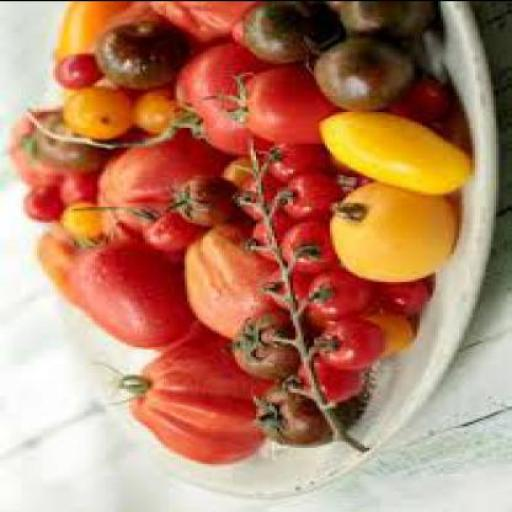biodegradable: (101, 318, 258, 462), (87, 128, 227, 241), (64, 231, 192, 344), (164, 40, 290, 150), (312, 108, 470, 192), (325, 180, 454, 279), (177, 215, 280, 336), (206, 58, 322, 144), (304, 34, 414, 109), (8, 109, 100, 188), (226, 1, 340, 64), (139, 2, 303, 44), (250, 382, 354, 443), (53, 1, 130, 69), (96, 18, 174, 85), (221, 309, 293, 375), (29, 113, 105, 174), (61, 81, 135, 138), (322, 0, 432, 38), (280, 356, 361, 400), (164, 174, 232, 224), (314, 316, 380, 366), (37, 225, 79, 299), (306, 269, 372, 316), (380, 70, 446, 116), (137, 202, 198, 251), (127, 80, 182, 134), (277, 219, 332, 271), (277, 172, 335, 217), (356, 305, 412, 350), (261, 138, 322, 178), (262, 259, 308, 311), (245, 215, 290, 261), (53, 200, 106, 239), (222, 152, 272, 188), (372, 275, 419, 310), (48, 50, 92, 87), (21, 178, 58, 220), (235, 178, 277, 213)
